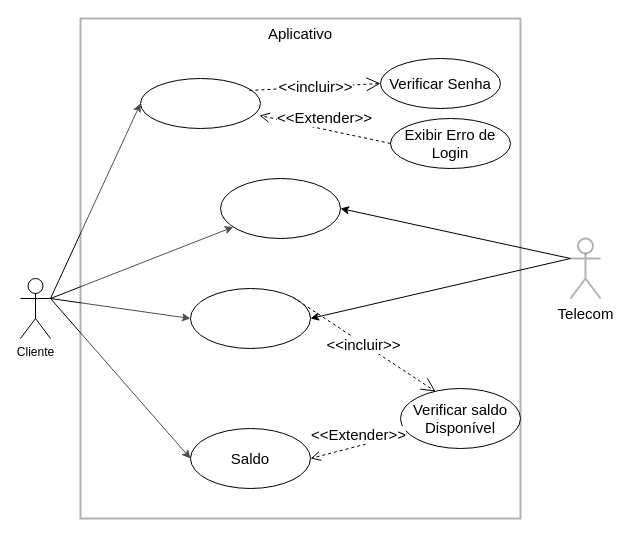
Image size: 631x536. Some labels were removed from this diagram. Here are the shapes that lost their labels. From the top down, the centre of each, then its label:
At point (200, 103): "Fazer Login".
At point (280, 208): "Serviços".
At point (250, 318): "Fazer Pagamentos".
